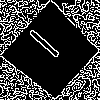I: (26, 26, 70, 67)
